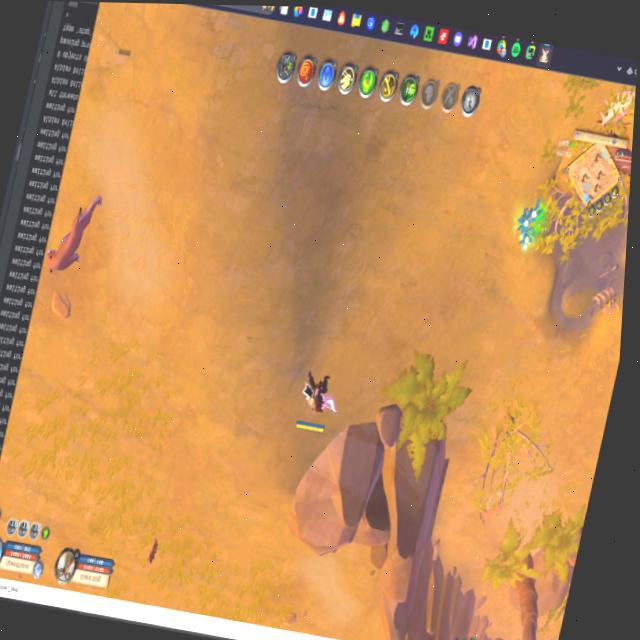hide: (511, 197, 550, 254)
ore: (41, 185, 106, 286), (470, 481, 512, 531)
red: (293, 366, 342, 438)
